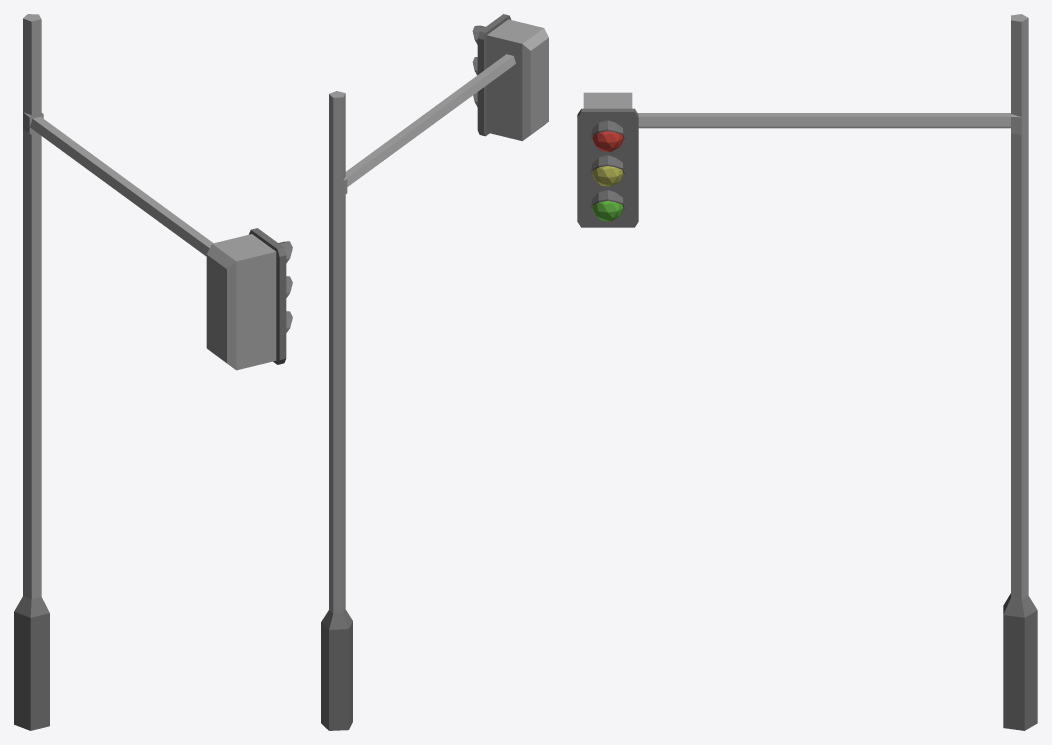
The model's file is TrafficLight_2.glb.
3 views of the same model, side by side, from view 1: azimuth 30°, elevation 25°; view 2: azimuth 150°, elevation 25°; view 3: azimuth 270°, elevation 25° (orthographic). The views are drawn at different scales.
Visible parts, largest first — view 1: TrafficLight_2; view 2: TrafficLight_2; view 3: TrafficLight_2.
Boxes of the visible parts, x1,y1,x2,y2 form: TrafficLight_2: [14, 14, 292, 730]; TrafficLight_2: [321, 14, 548, 730]; TrafficLight_2: [577, 14, 1037, 730].
Size of the model in its own units: 0.1229 by 1.13 by 0.6707.
